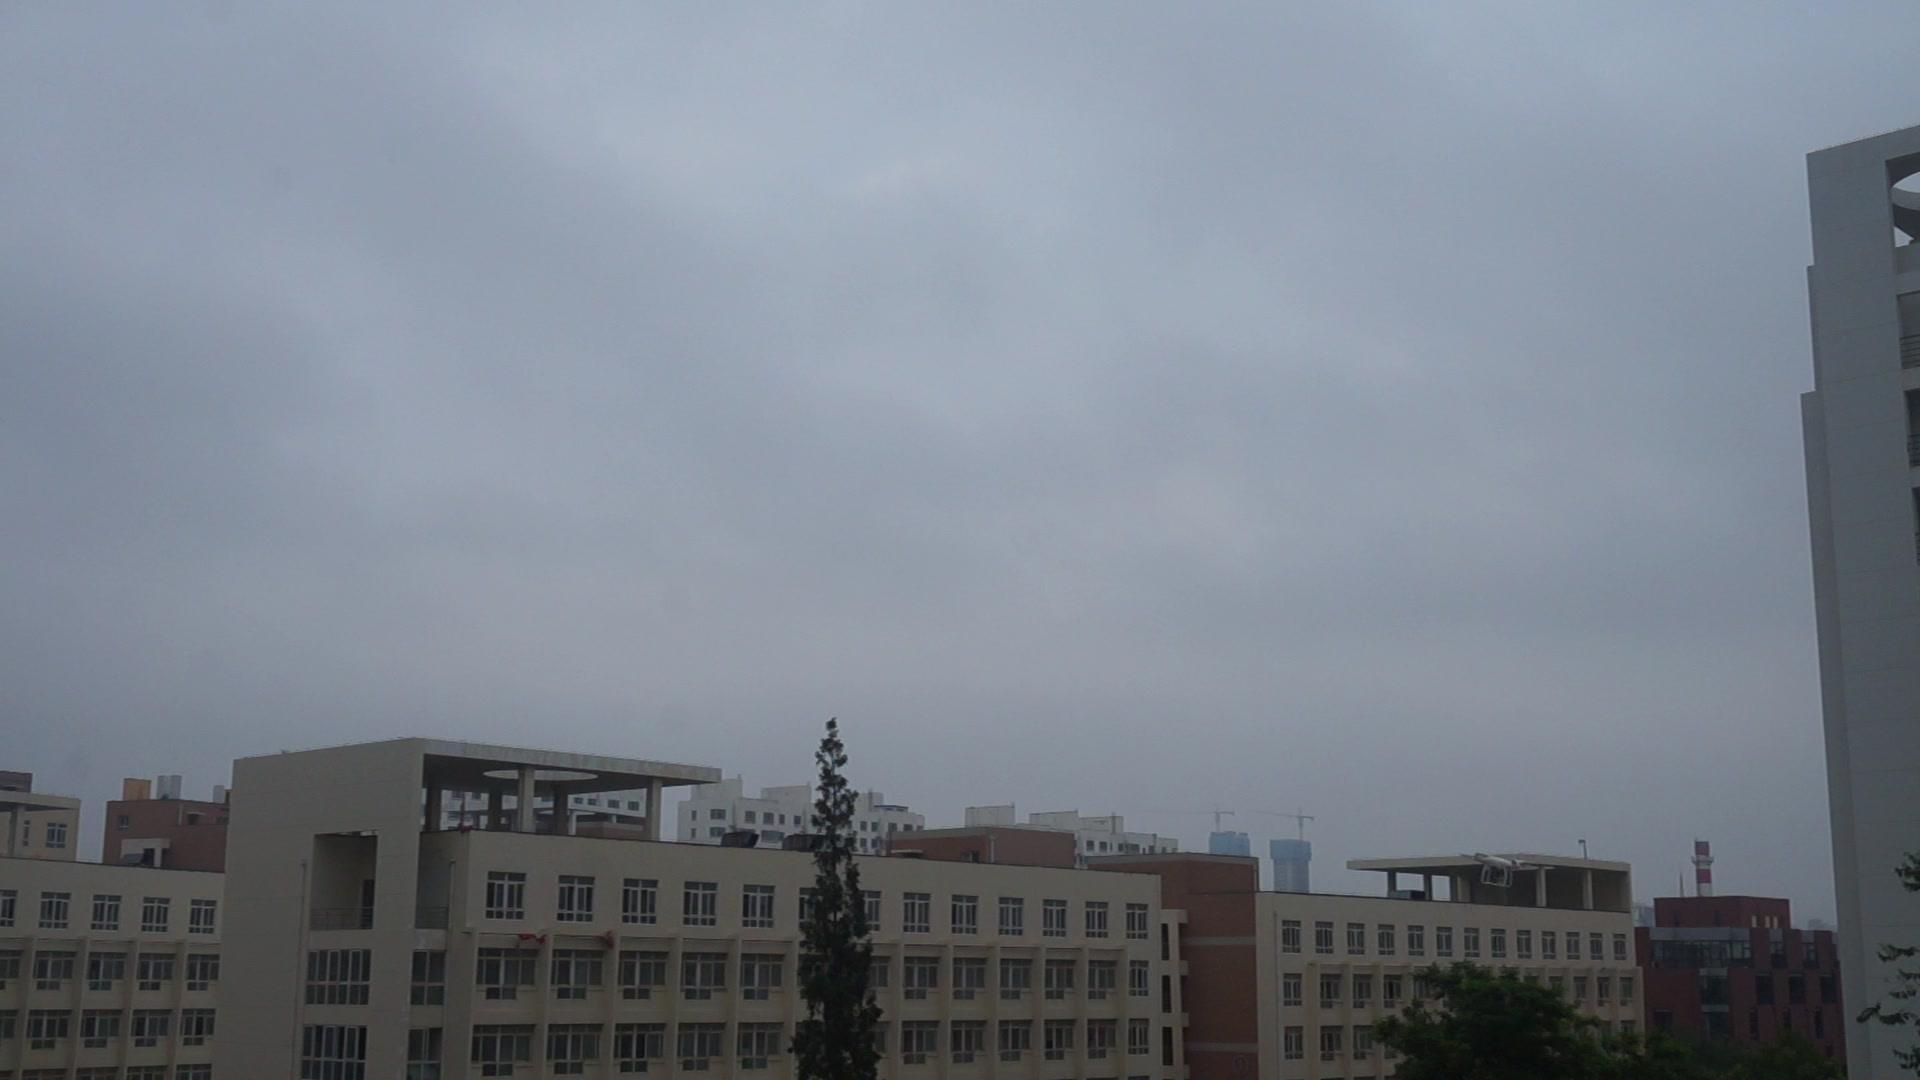UAV: (1476, 853, 1527, 889)
